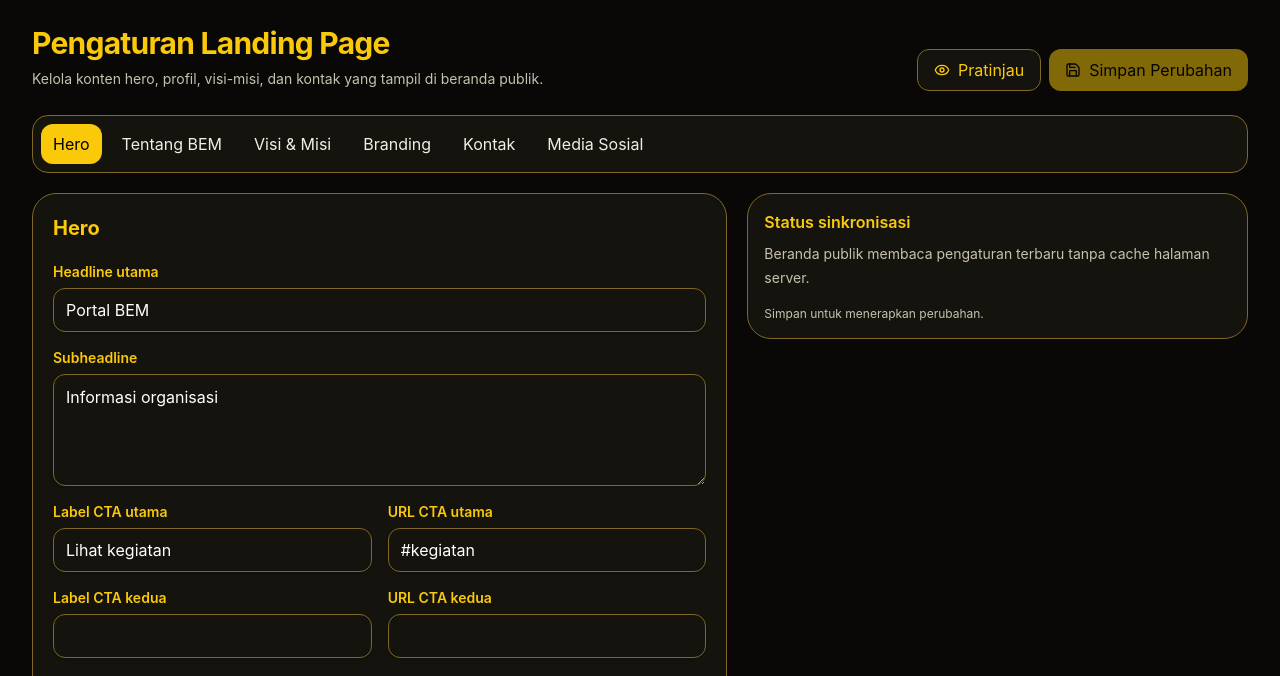
Scenario: system management screens › keeps the draft and reports failed settings save without a contradictory dirty banner
Check: the field showing "Portal BEM" is shown, box x1=53 y1=288 x2=706 y2=332
Click the button "Branding". click: {"x": 397, "y": 144}
box: x1=351 y1=124 x2=443 y2=164
(page scrolled)
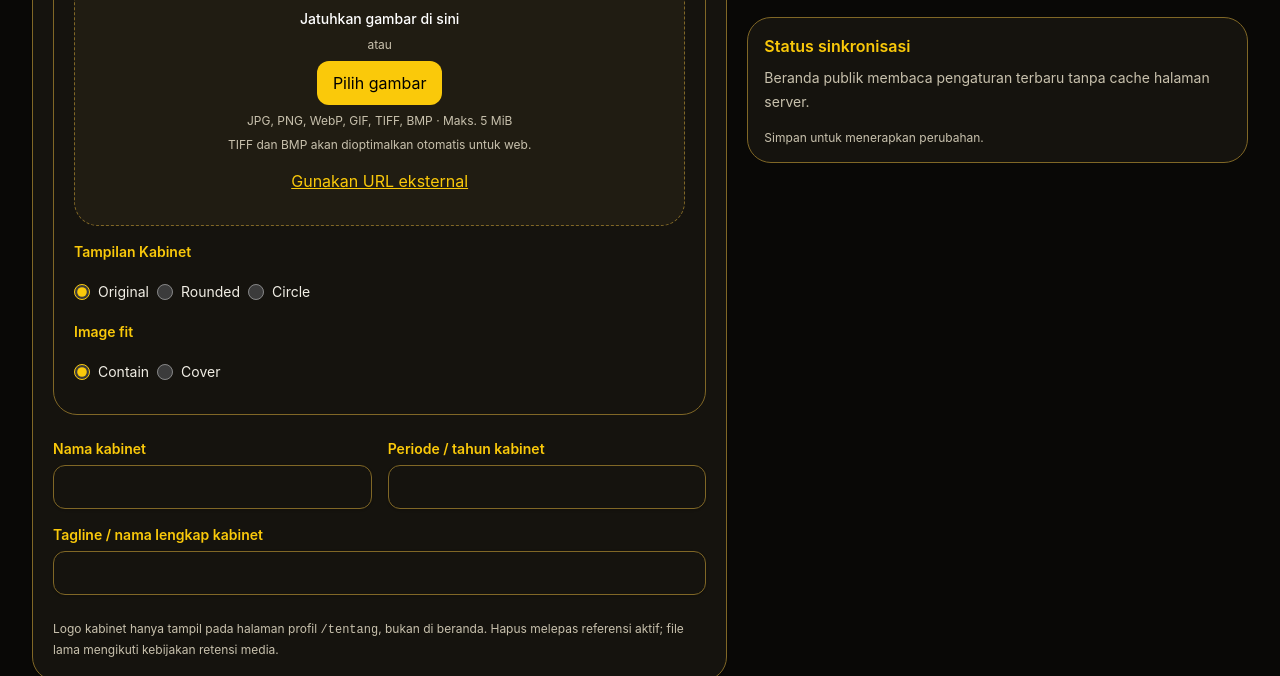
Type "Draf lokal" into the field labelled "Nama kabinet". click: {"x": 212, "y": 487}
box: x1=53 y1=465 x2=372 y2=509
(page scrolled)
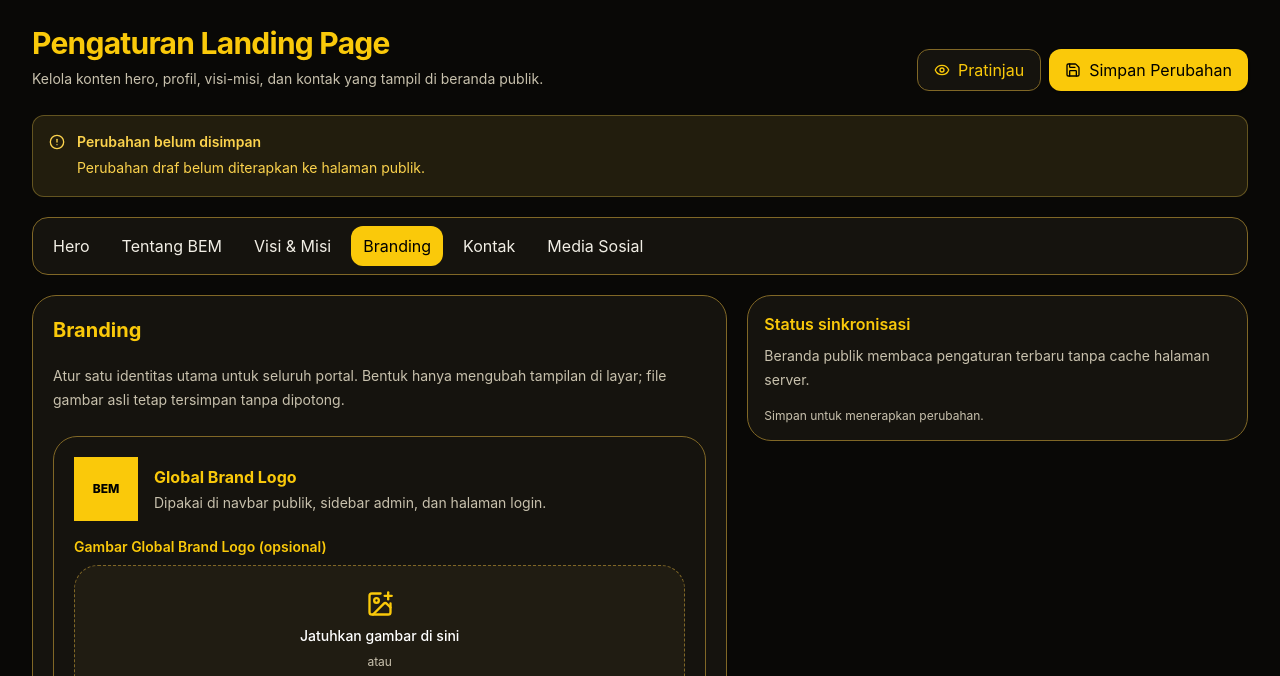
Click the button "Simpan Perubahan". click: {"x": 1149, "y": 70}
box: x1=1049 y1=49 x2=1248 y2=91
(page scrolled)
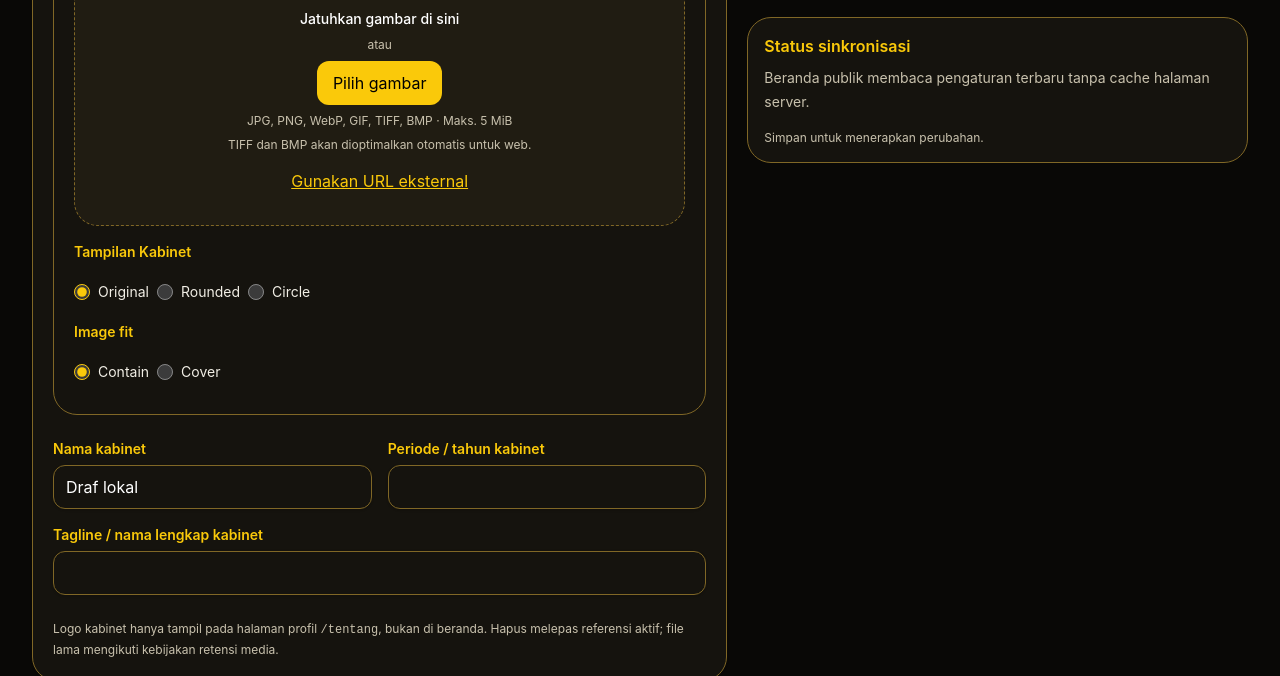
Check: the text "Perubahan draf belum diterapkan ke halaman publik." is gone
